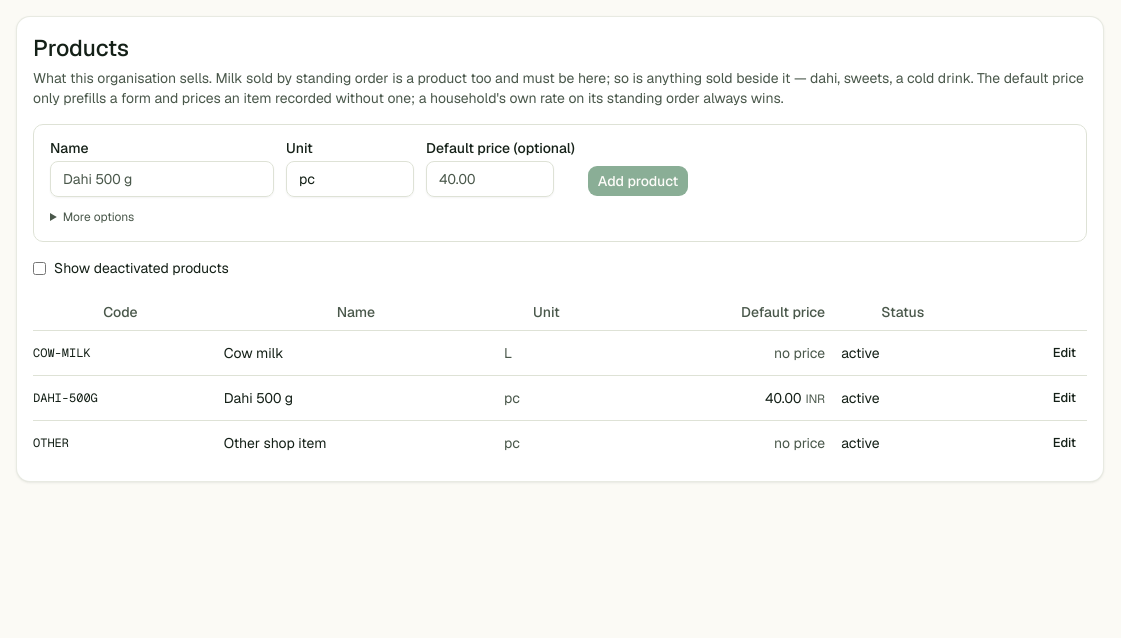
Test: Admin → Products › deactivates rather than deletes, and says the bills keep it
Expected: the text "Dahi 500 g" is shown, [224,376,504,421]
Click the button "Edit" in the row of "DAHI-500G" at (1064, 398), box [1042,384,1087,412]
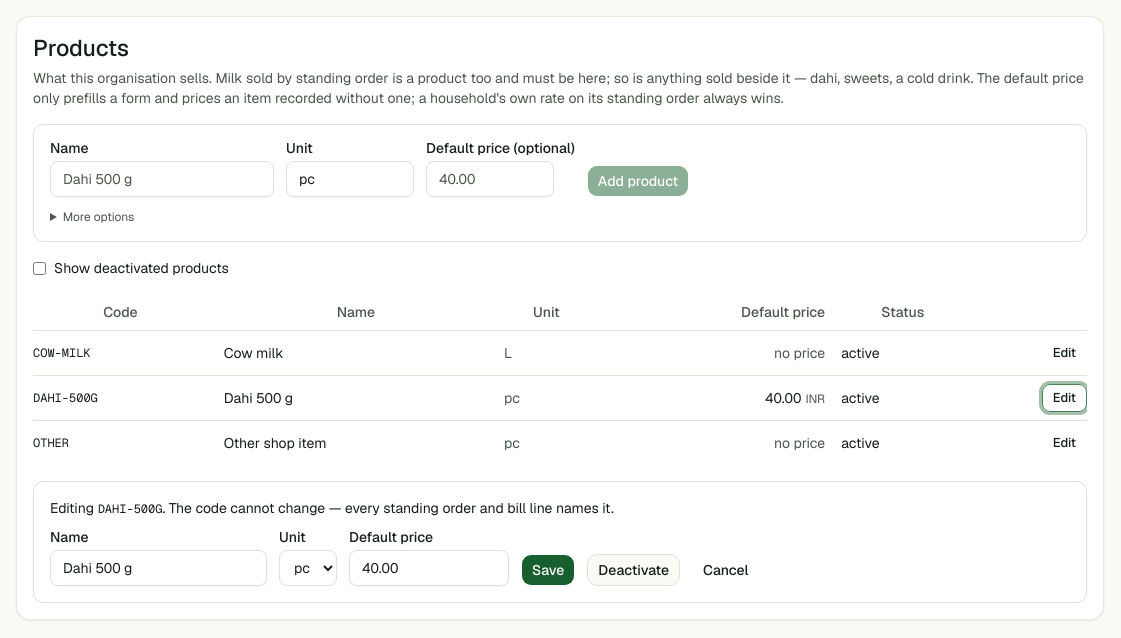
Click the button "Deactivate" at (634, 570), box [587,554,680,586]
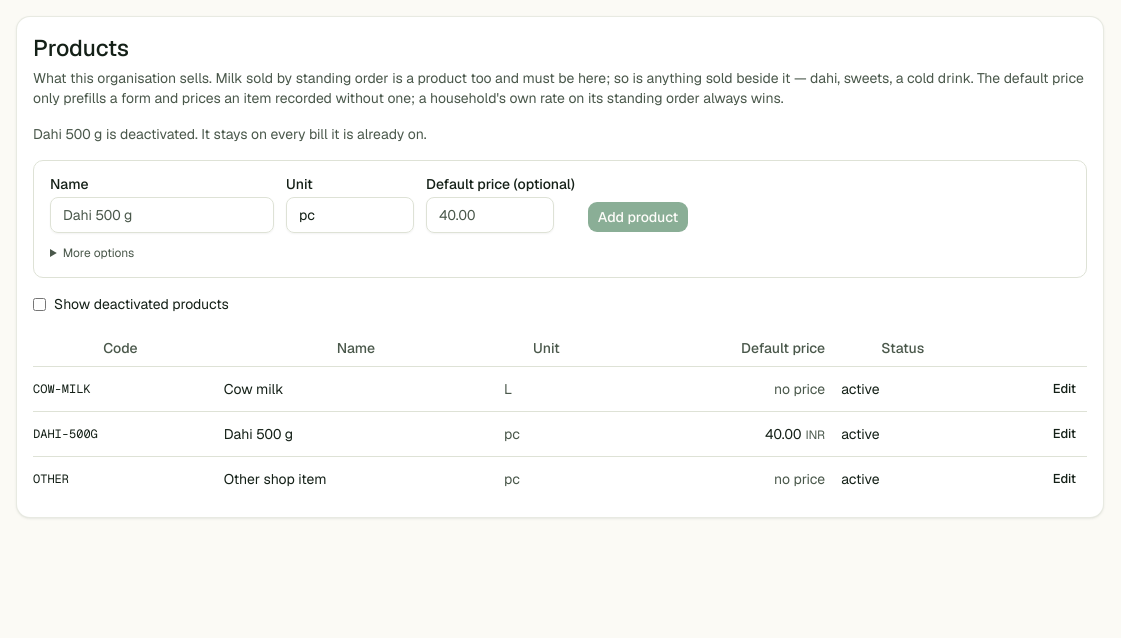
Expected: the message shows "stays on every bill", [33,125,427,143]
